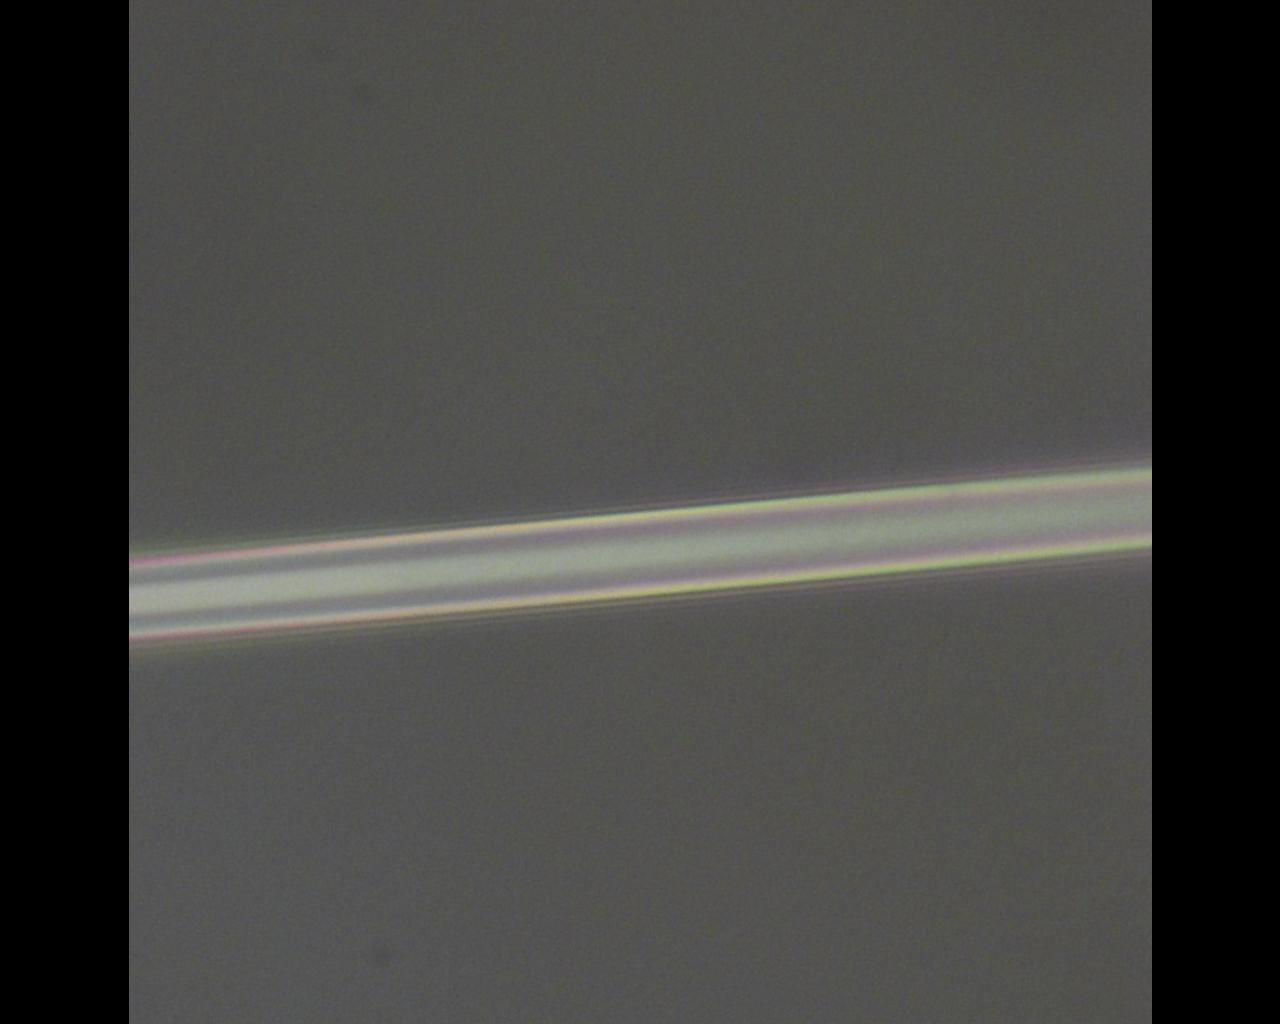fiber: (901, 0, 1128, 696), (471, 0, 576, 600)
